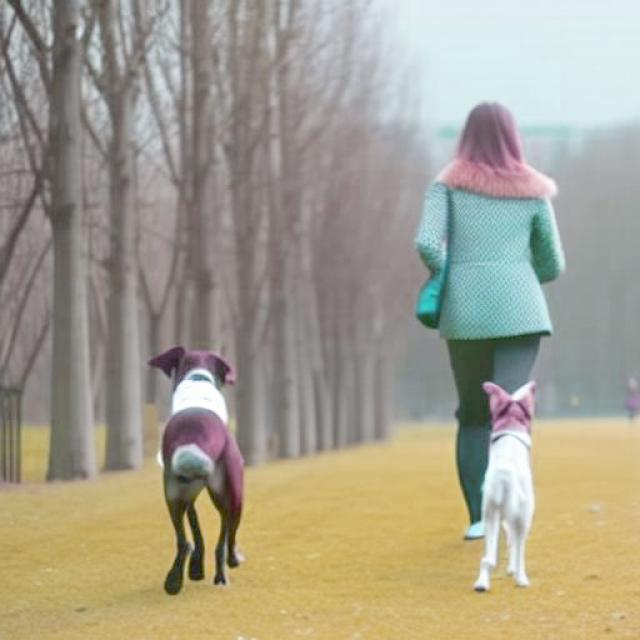Unleashed_Dog: (146, 281, 541, 596), (442, 300, 538, 595)
